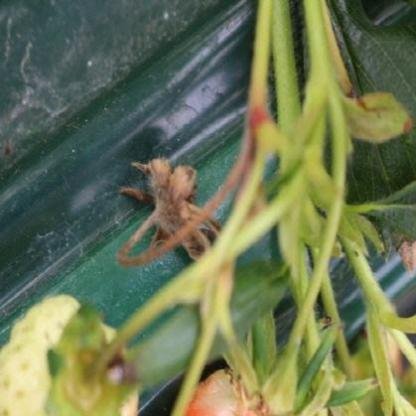Strawberry_Gray_Mold: (114, 157, 224, 268)
